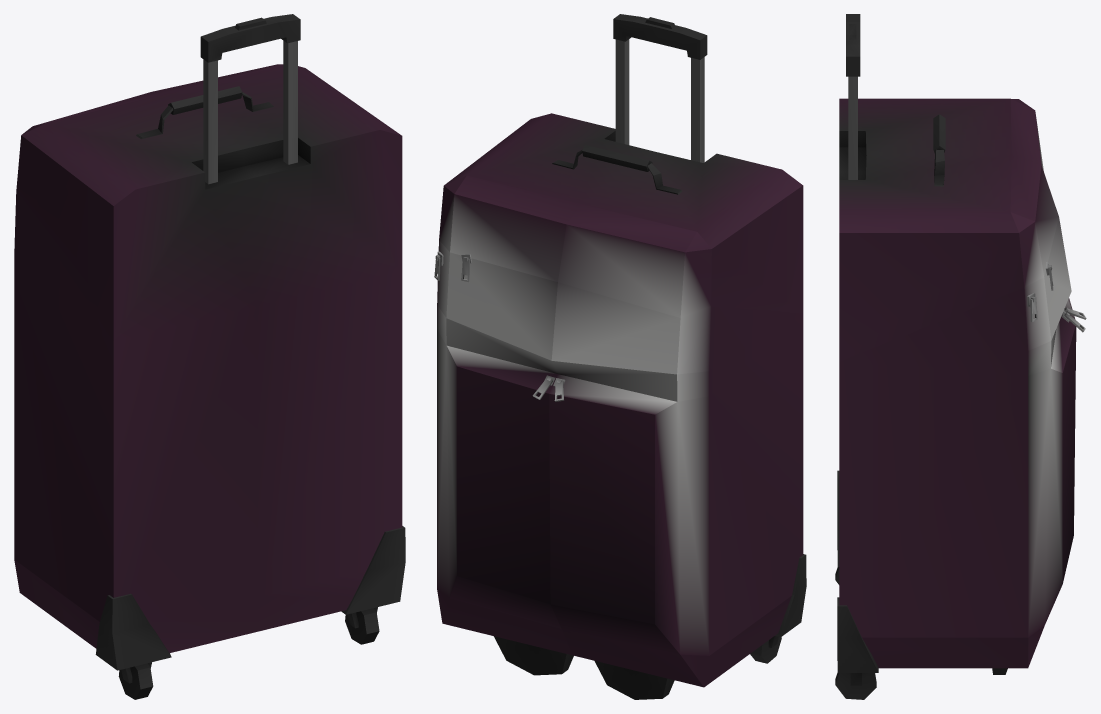
Rendered from luggage.fbx.
The picture shows the model from 3 angles, left to right: view 1: azimuth 30°, elevation 25°; view 2: azimuth 150°, elevation 25°; view 3: azimuth 270°, elevation 25°; orthographic projection. The views are drawn at different scales.
Parts seen in each view (by area): view 1: Luggage_mesh; view 2: Luggage_mesh; view 3: Luggage_mesh.
Part boxes in pixels (x1,y1,x2,y2): Luggage_mesh: (14,14,405,699); Luggage_mesh: (434,14,806,699); Luggage_mesh: (835,14,1086,699).
Bounding box in the file's own units: 0.4744 × 1 × 0.3704.
